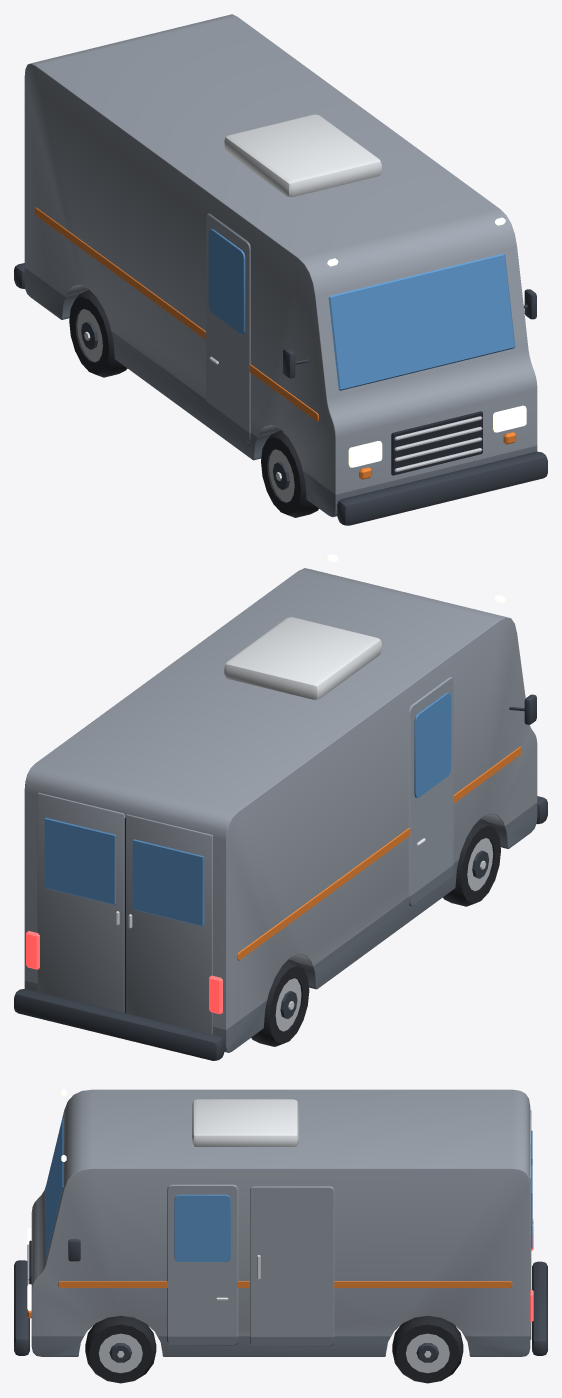
Rendered from furgao_cinza.glb.
The picture shows the model from 3 angles, top to bottom: view 1: azimuth 30°, elevation 25°; view 2: azimuth 150°, elevation 25°; view 3: azimuth 270°, elevation 25°; orthographic projection. The views are drawn at different scales.
Visible parts, largest first — view 1: furgao_cinza, porta_1, roda_2, roda_1; view 2: furgao_cinza, porta_traseira_2, porta_traseira_1, porta_1, roda_2, roda_1; view 3: furgao_cinza, porta_correr_1, porta_2, roda_3, roda_4, porta_traseira_2.
Part boxes in pixels (x1,y1,x2,y2): furgao_cinza: (14, 14, 547, 525); porta_1: (206, 213, 250, 442); roda_2: (69, 290, 127, 377); roda_1: (261, 430, 318, 517); furgao_cinza: (14, 554, 547, 1060); porta_traseira_2: (37, 792, 124, 1012); porta_traseira_1: (126, 814, 212, 1034); porta_1: (408, 677, 453, 906); roda_2: (251, 959, 309, 1046); roda_1: (443, 819, 500, 906); furgao_cinza: (14, 1089, 547, 1356); porta_correr_1: (250, 1186, 334, 1346); porta_2: (167, 1184, 238, 1345); roda_3: (85, 1316, 156, 1383); roda_4: (392, 1316, 463, 1383); porta_traseira_2: (530, 1144, 533, 1339).
Size of the model in its own units: 2.58 by 2.86 by 6.
4 materials, 1 textured.
